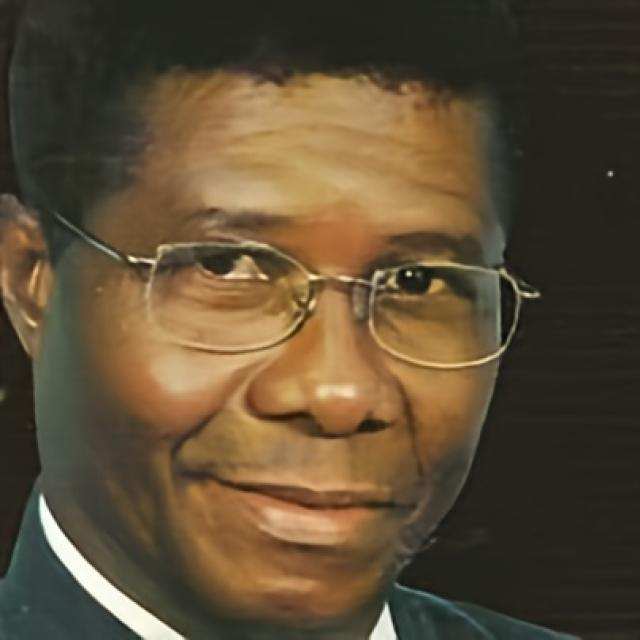content: (52, 64, 507, 636)
